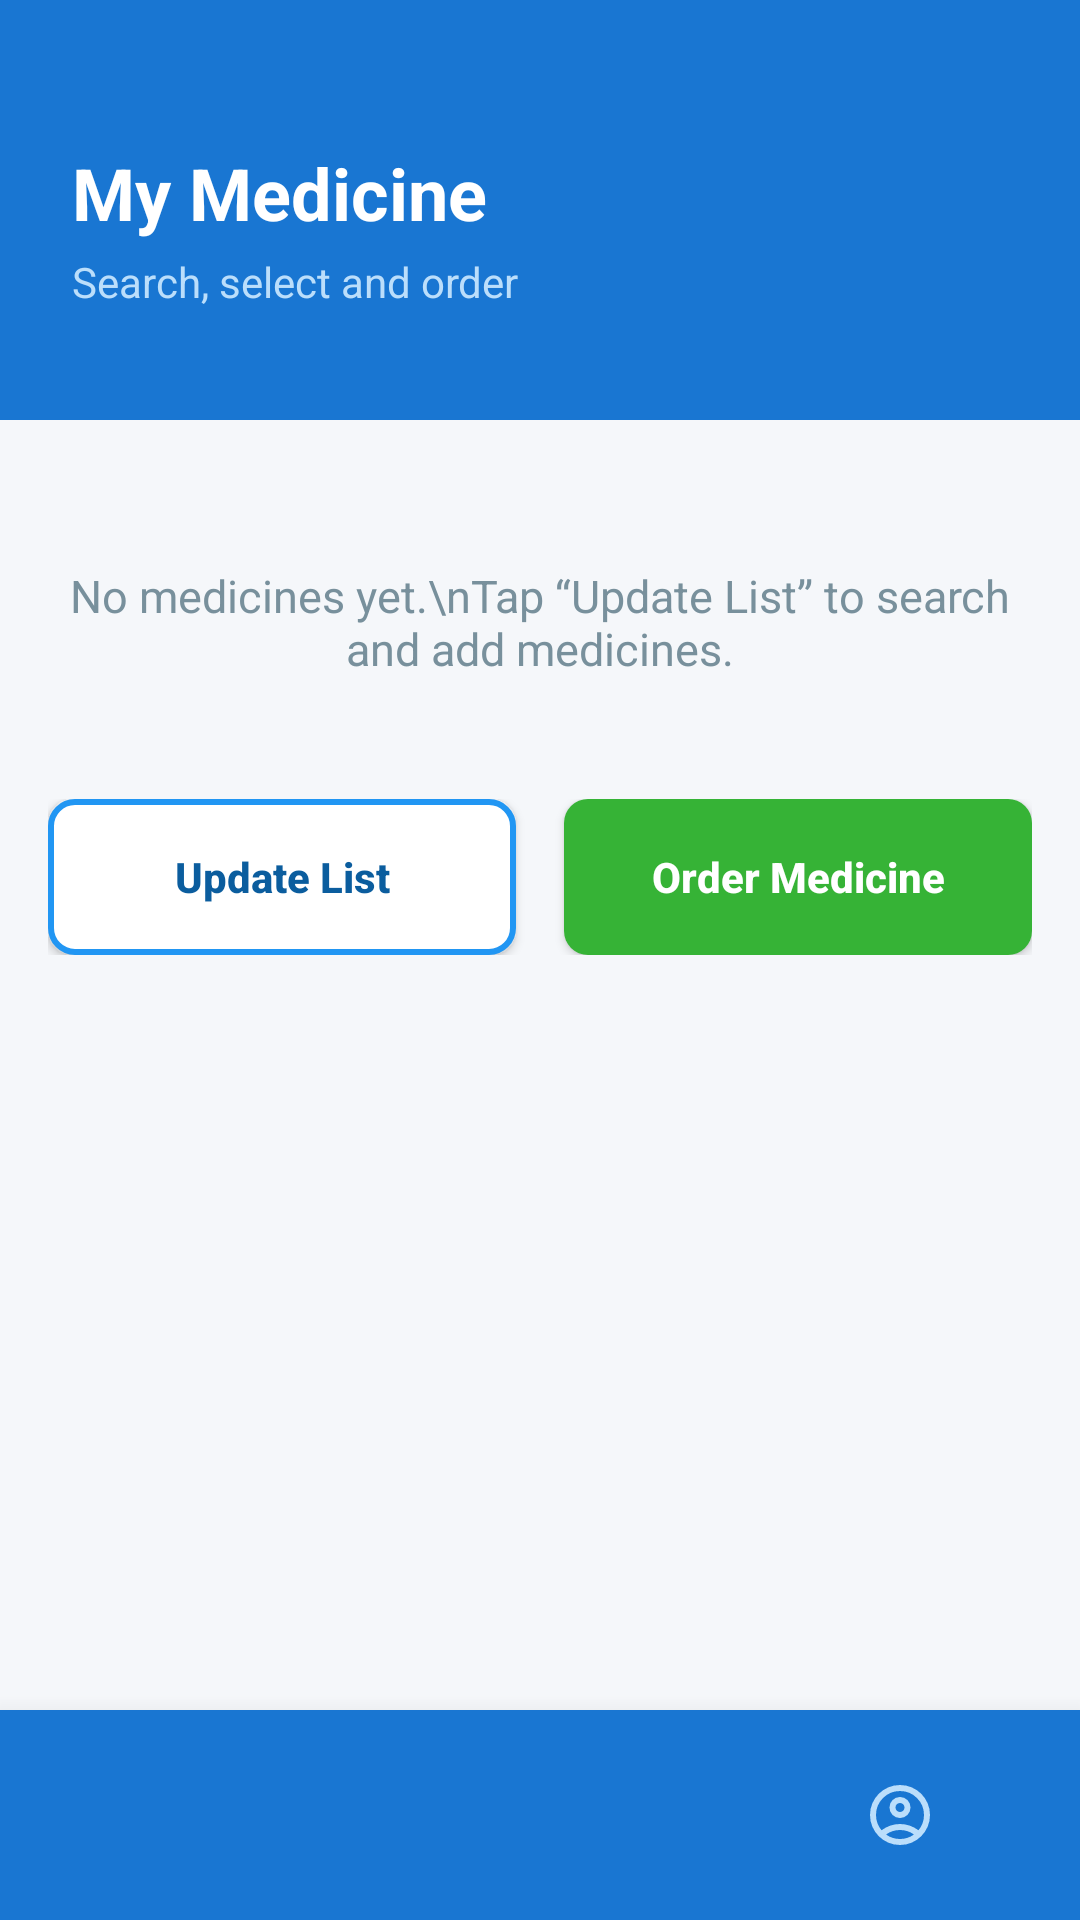

Icons on this 1080x1920 Android screen, each with the point to tap as [x,y]:
account: [900,1815]
